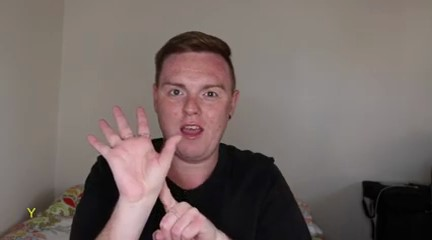Y: (85, 102, 212, 240)
